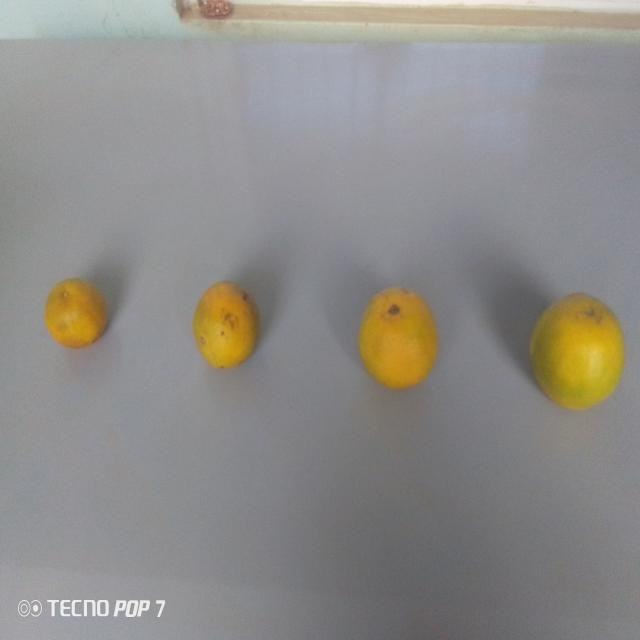Ripe orange: (518, 269, 630, 430), (359, 269, 445, 399), (188, 266, 270, 376), (41, 270, 114, 350)
